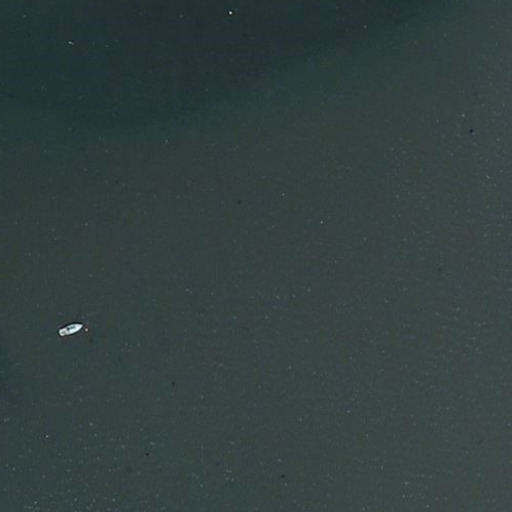ship: (55, 321, 88, 339)
